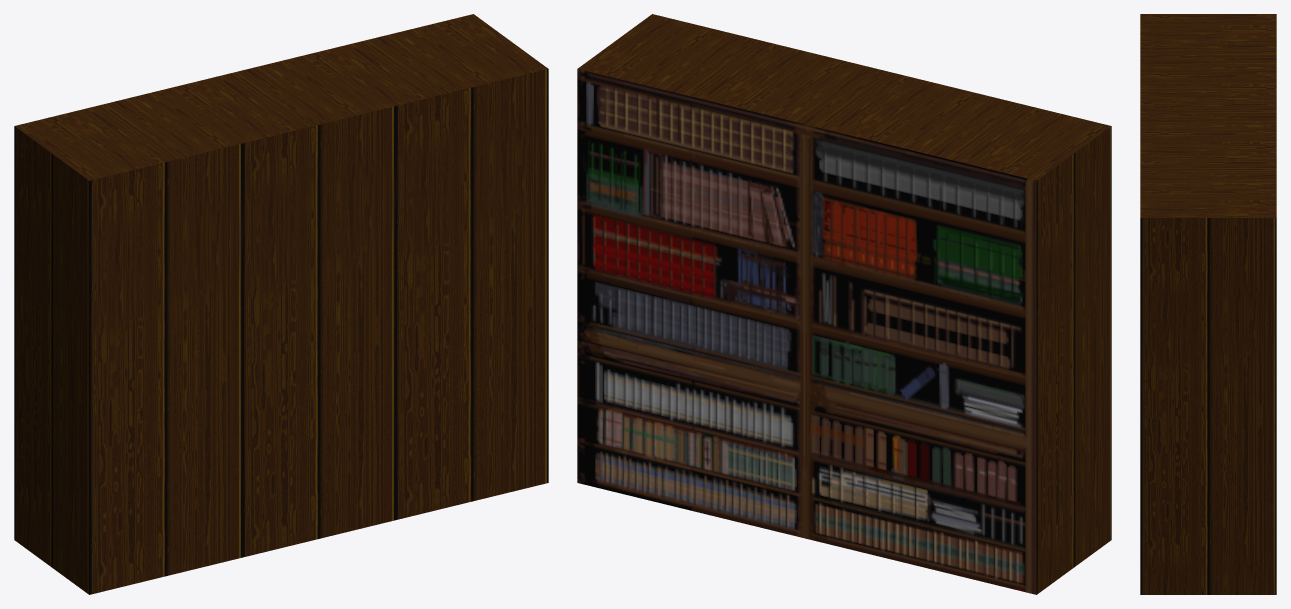
The model's file is moving_wall4.glb.
3 renders of one model, left to right at view 1: azimuth 30°, elevation 25°; view 2: azimuth 150°, elevation 25°; view 3: azimuth 270°, elevation 25°, orthographic. The views are drawn at different scales.
Parts seen in each view (by area): view 1: MovingWall; view 2: MovingWall; view 3: MovingWall.
Boxes of the visible parts, box(x1,y1,x2,y2) form: MovingWall: box(14, 14, 548, 594); MovingWall: box(577, 14, 1111, 594); MovingWall: box(1140, 14, 1276, 594).
Size of the model in its own units: 2.24 by 1.93 by 0.632.
Materials: 4 (4 with a texture image).
